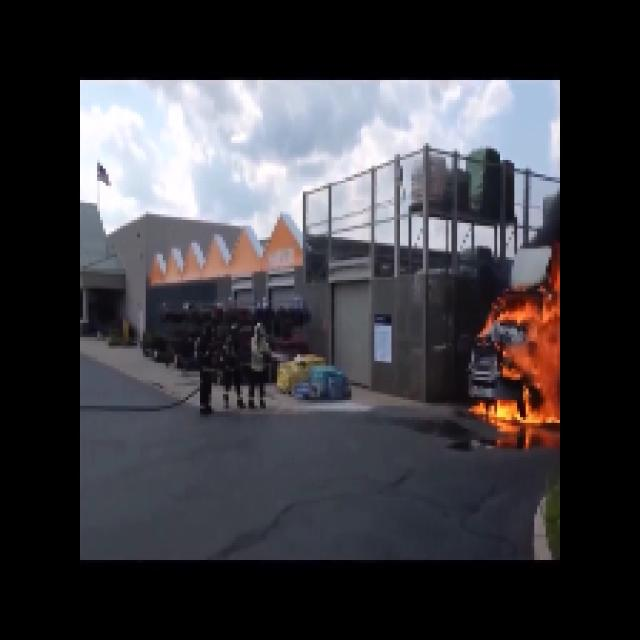fire: (496, 287, 562, 428)
